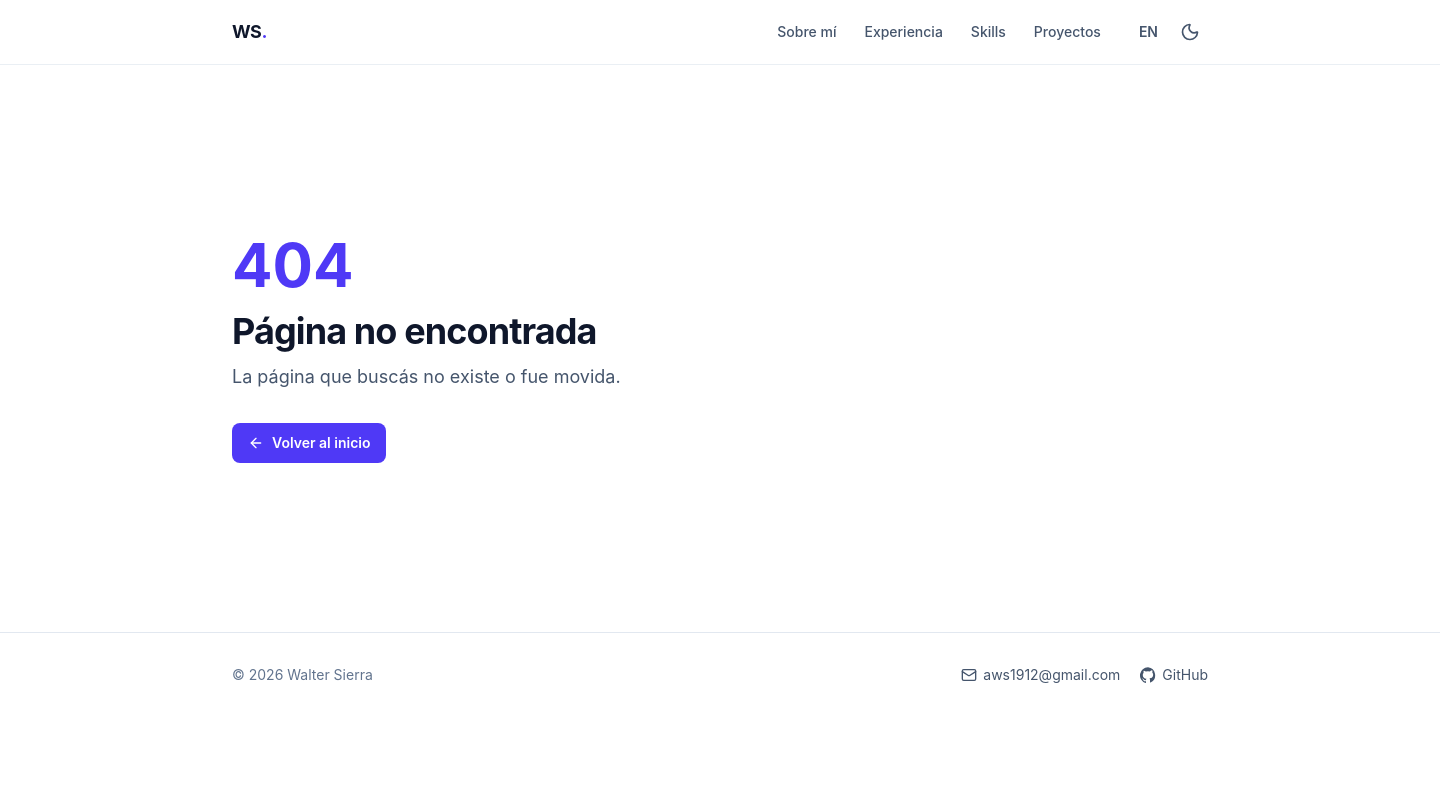
Scenario: Navegación entre rutas › una ruta inexistente muestra 404 con link al inicio
The image size is (1440, 810).
Expected: the text "404" is shown, [232, 234, 354, 294]
Click the link "Volver al inicio" at (309, 442), box [232, 422, 386, 462]
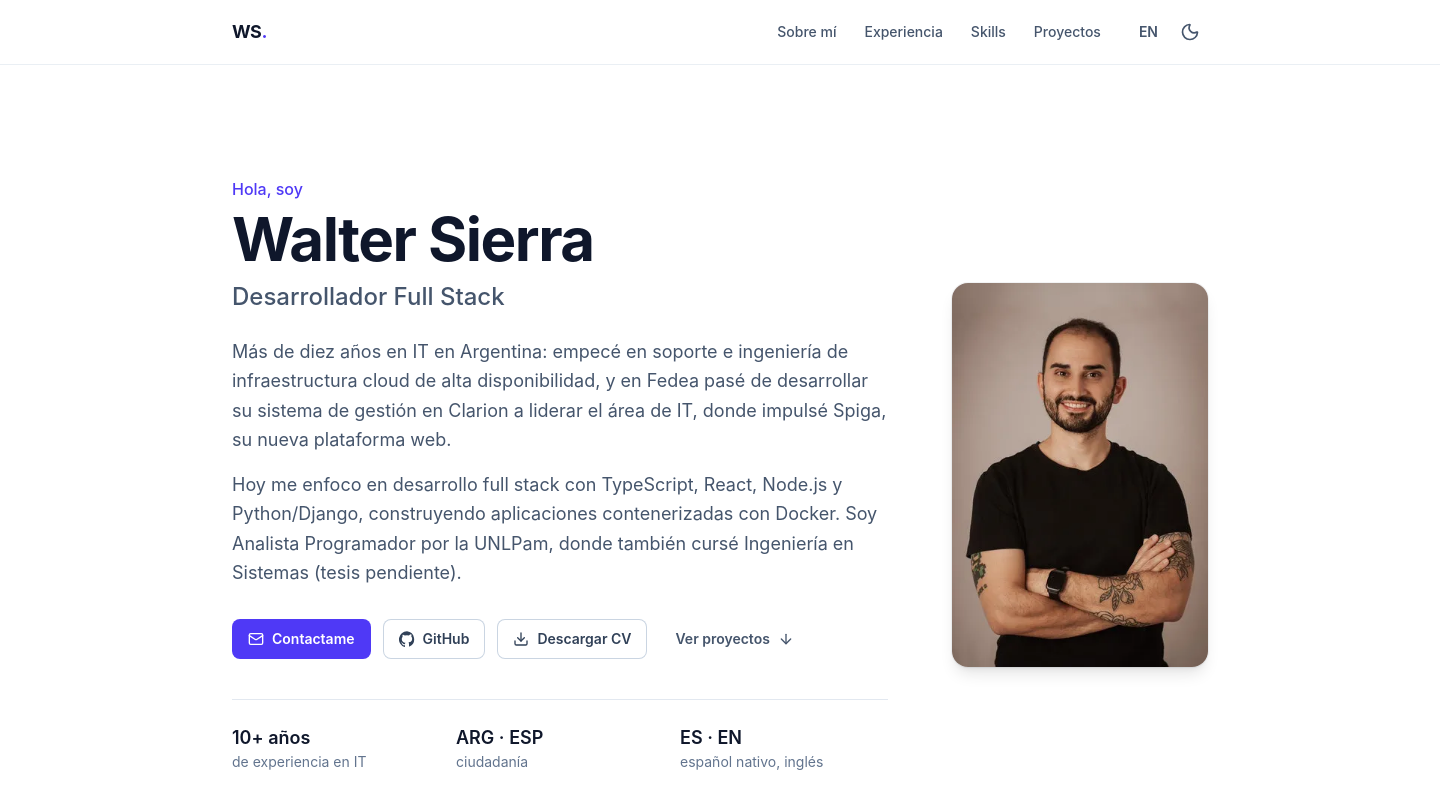
Expected: the heading "Walter Sierra" is shown, [232, 203, 594, 275]
